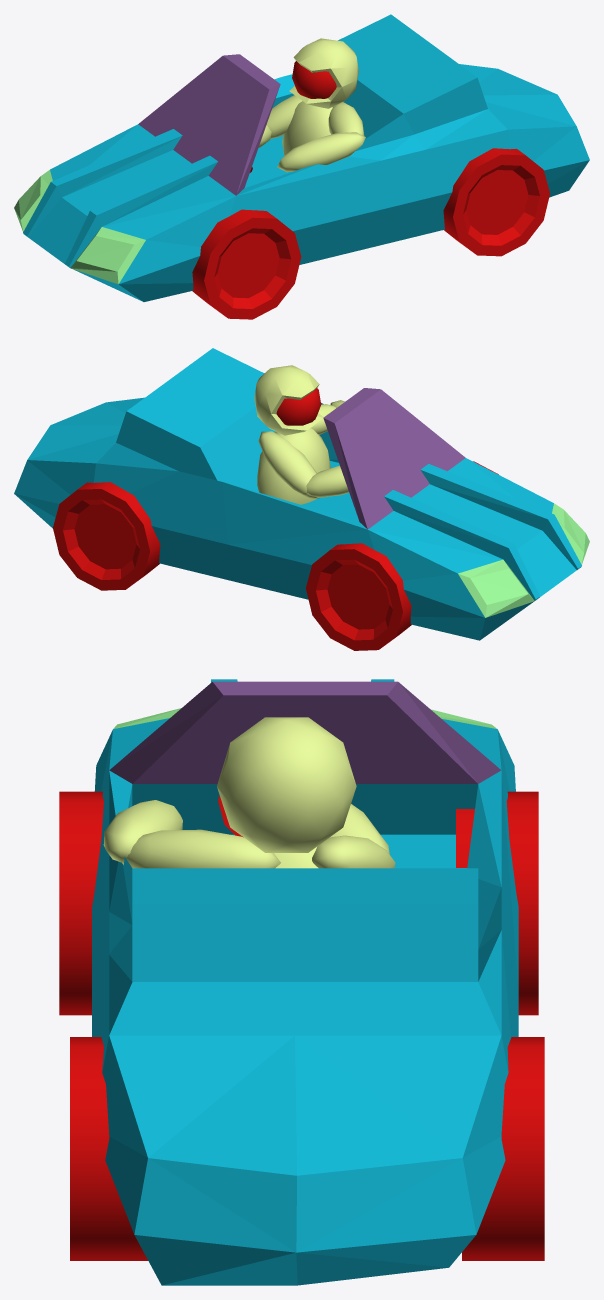
File: voiture_tesla.FBX
The picture shows the model from 3 angles, top to bottom: view 1: azimuth 30°, elevation 25°; view 2: azimuth 150°, elevation 25°; view 3: azimuth 270°, elevation 25°; orthographic projection. The views are drawn at different scales.
Visible parts, largest first — view 1: voiture; view 2: voiture; view 3: voiture.
Boxes of the visible parts, x1,y1,x2,y2 form: voiture: [14, 14, 589, 319]; voiture: [14, 348, 589, 650]; voiture: [59, 679, 544, 1285].
Bounding box in the file's own units: 0.4417 × 0.1667 × 0.1784.
